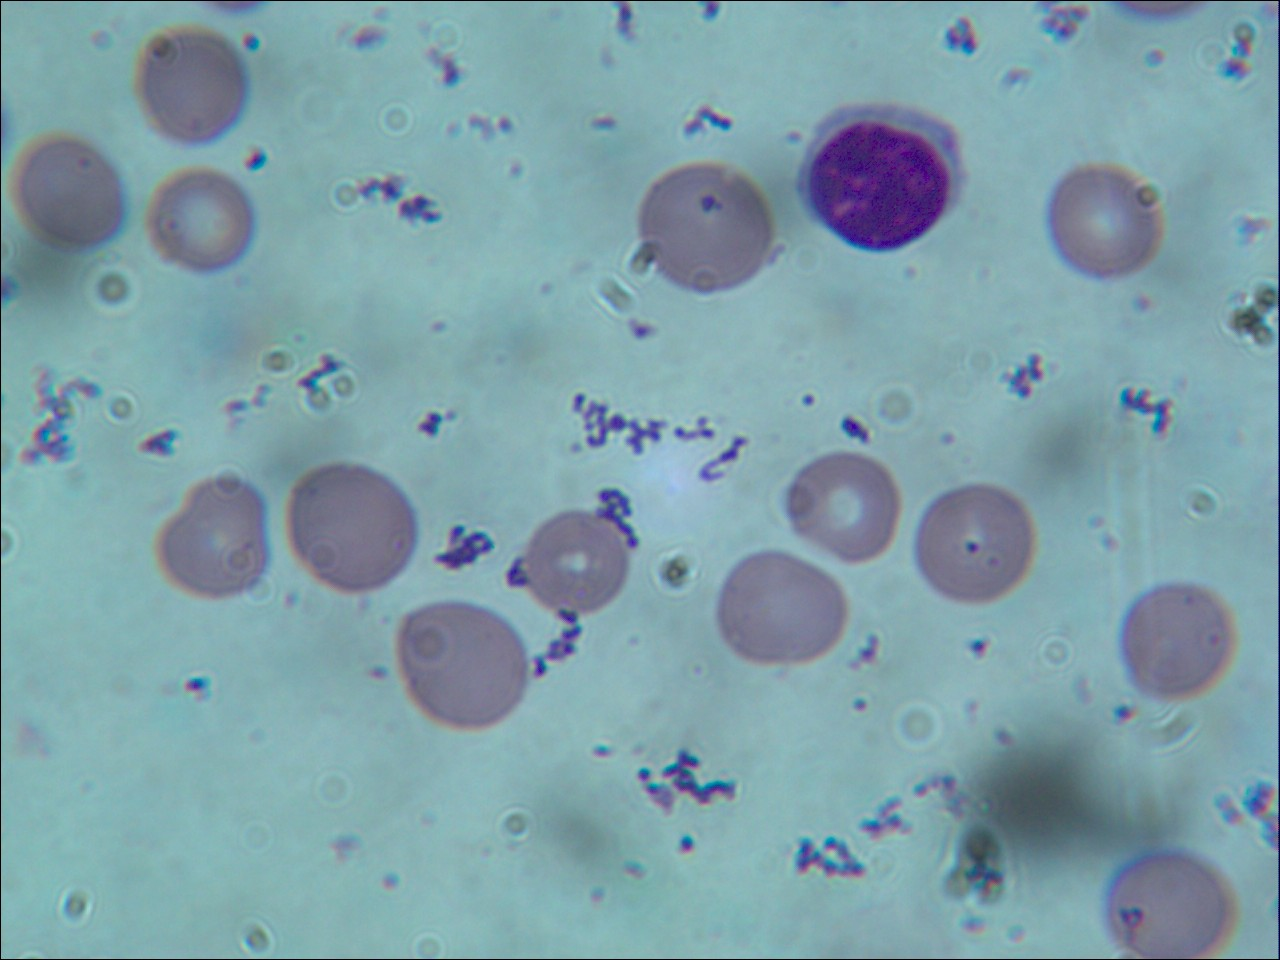Eritrosit: (637, 161, 775, 292), (396, 606, 533, 733), (912, 481, 1042, 609), (1043, 159, 1178, 281), (287, 471, 418, 590), (712, 553, 848, 667), (148, 474, 275, 596), (1123, 578, 1243, 703), (1108, 852, 1243, 960), (780, 452, 906, 567), (15, 136, 127, 250), (146, 161, 255, 277), (139, 28, 246, 146), (527, 512, 625, 615)
Neutrofil: (796, 106, 958, 252)
Platelet: (355, 653, 399, 693), (321, 831, 367, 867), (84, 21, 124, 62), (177, 672, 220, 705), (686, 187, 724, 222), (500, 159, 542, 190), (1139, 43, 1170, 84), (958, 909, 992, 943), (999, 921, 1033, 952), (774, 121, 808, 152), (423, 311, 455, 344), (242, 22, 270, 58), (589, 733, 614, 772), (933, 424, 964, 456), (990, 721, 1018, 753), (1080, 505, 1111, 534), (577, 880, 608, 909), (965, 633, 996, 661), (490, 111, 518, 139), (375, 867, 402, 896), (1131, 290, 1156, 322), (670, 833, 705, 855), (849, 686, 870, 721), (898, 259, 923, 287), (530, 278, 555, 306), (624, 856, 648, 884), (628, 315, 652, 343), (1096, 528, 1120, 556), (799, 383, 821, 411), (442, 408, 470, 430), (956, 536, 983, 555), (636, 764, 656, 784)
